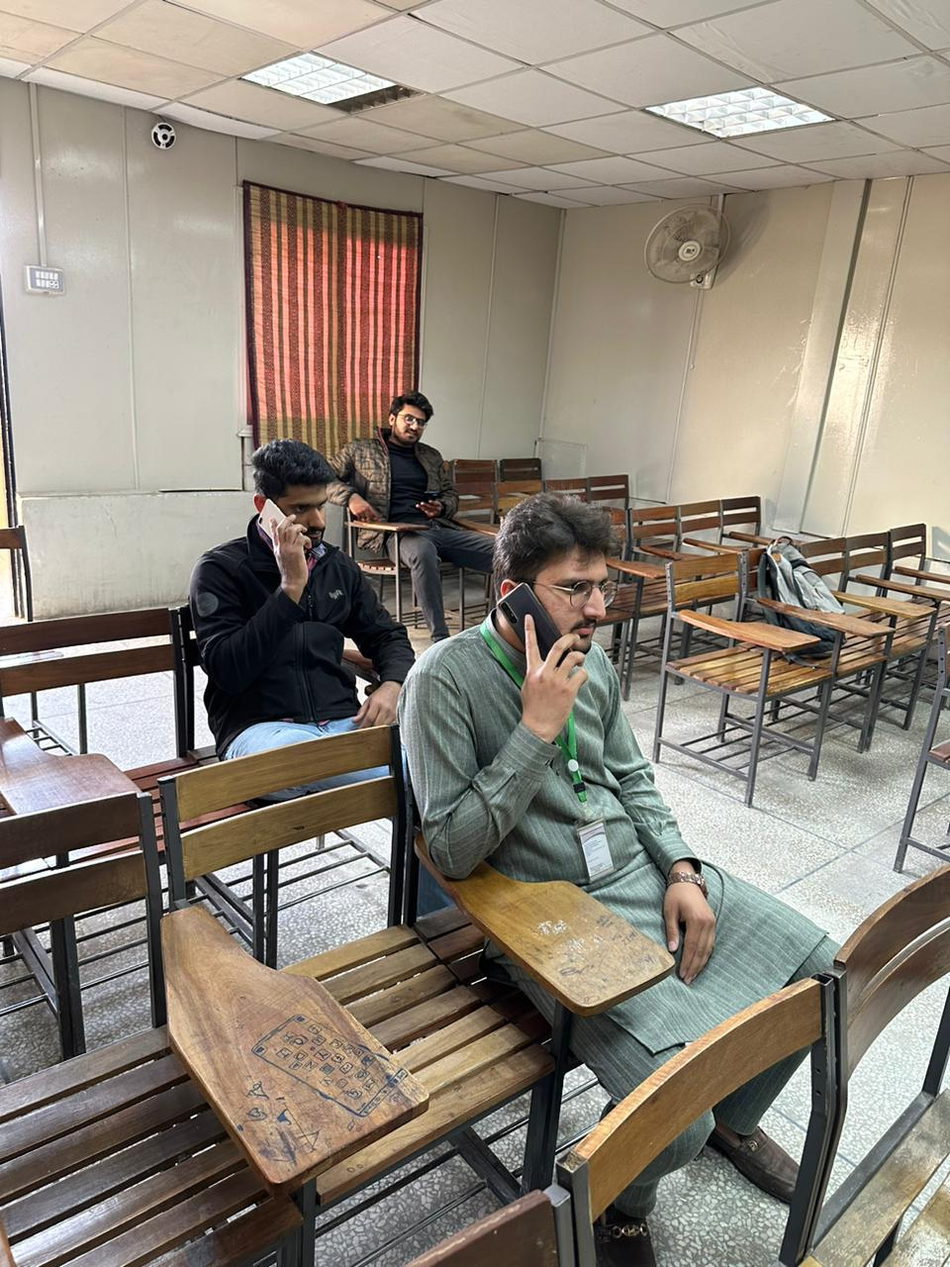phone: (489, 579, 589, 730), (252, 493, 313, 564), (413, 488, 445, 522)
